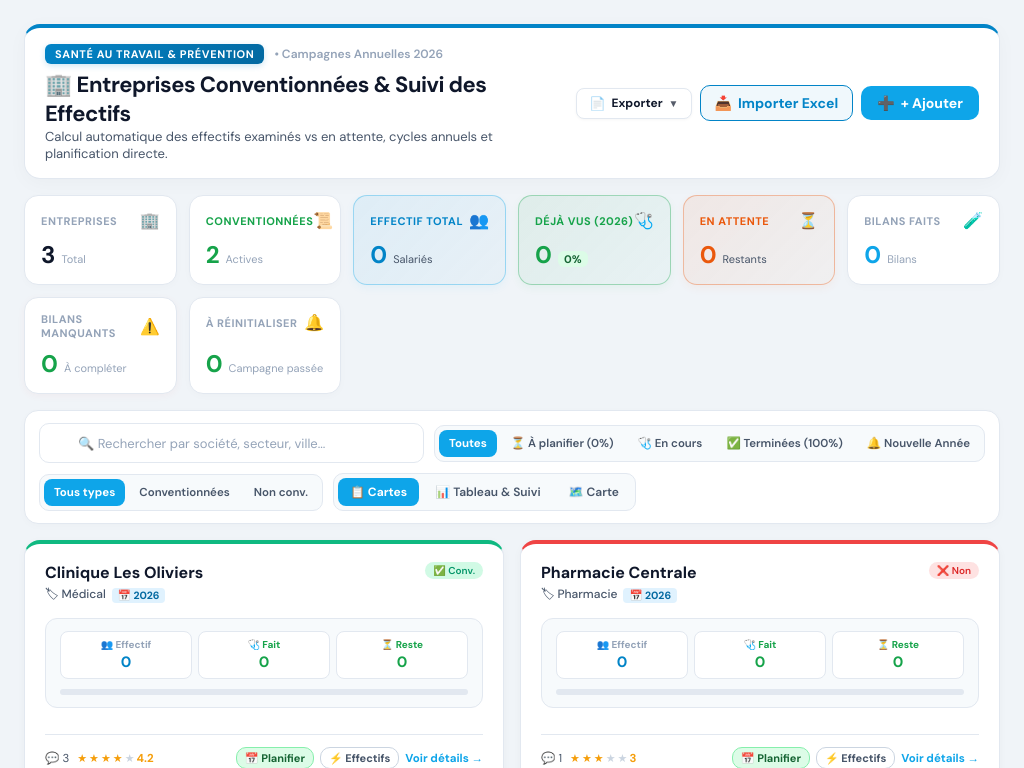
Scenario: Entreprises page — détail & avis › shows avis in detail panel
Check: the text "Clinique Les Oliviers" is shown, box [45, 562, 203, 583]
Click the text "Voir détails →" in the row of "4.2". click: (444, 758)
box: [405, 750, 483, 766]
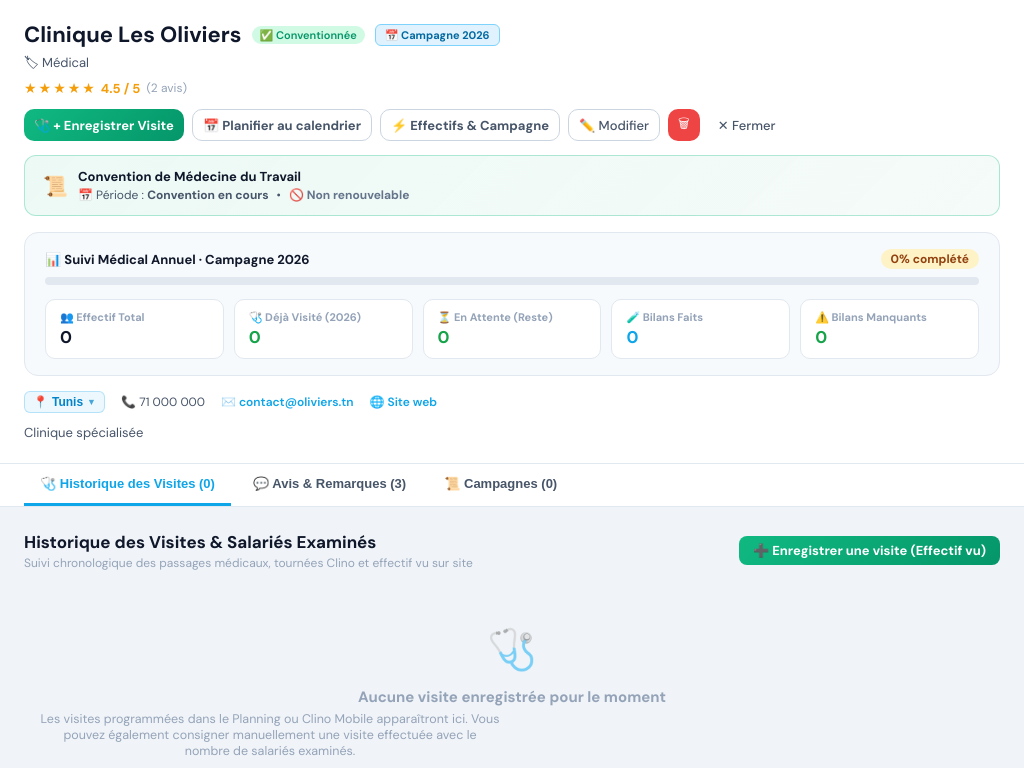
Check: the button "💬 Avis & Remarques (3)" is shown
Click the button "💬 Avis & Remarques (3)". click: (330, 484)
box: [237, 464, 422, 506]
(page scrolled)
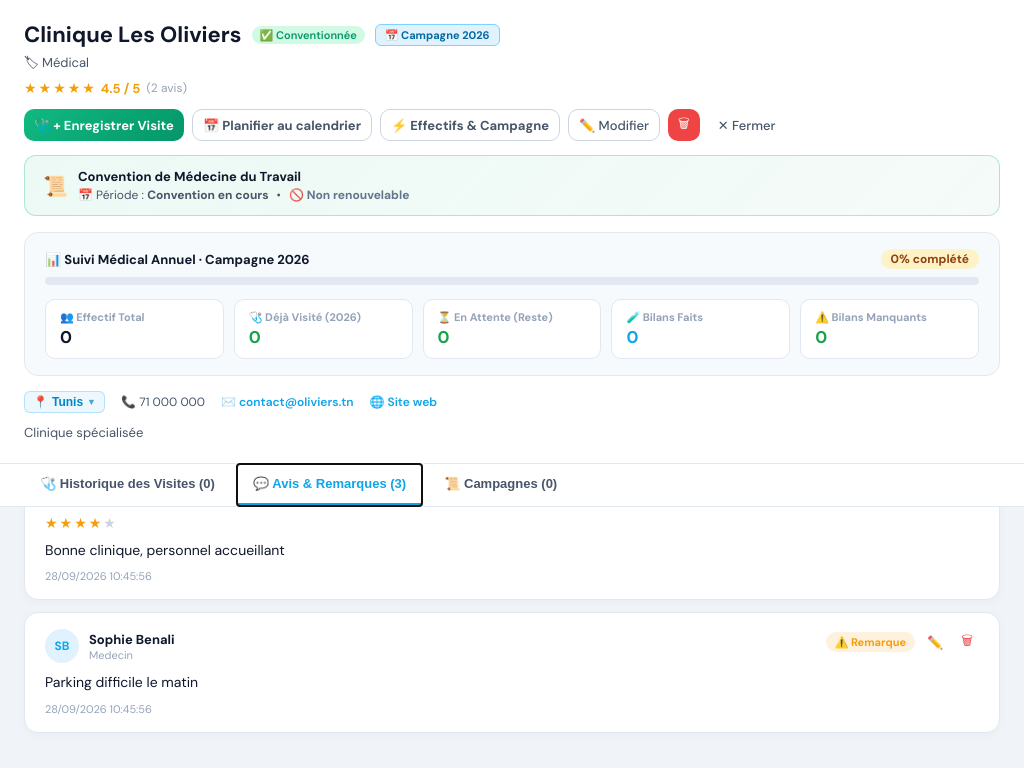
Check: the text "Parking difficile le matin" is shown, box [45, 673, 198, 691]
